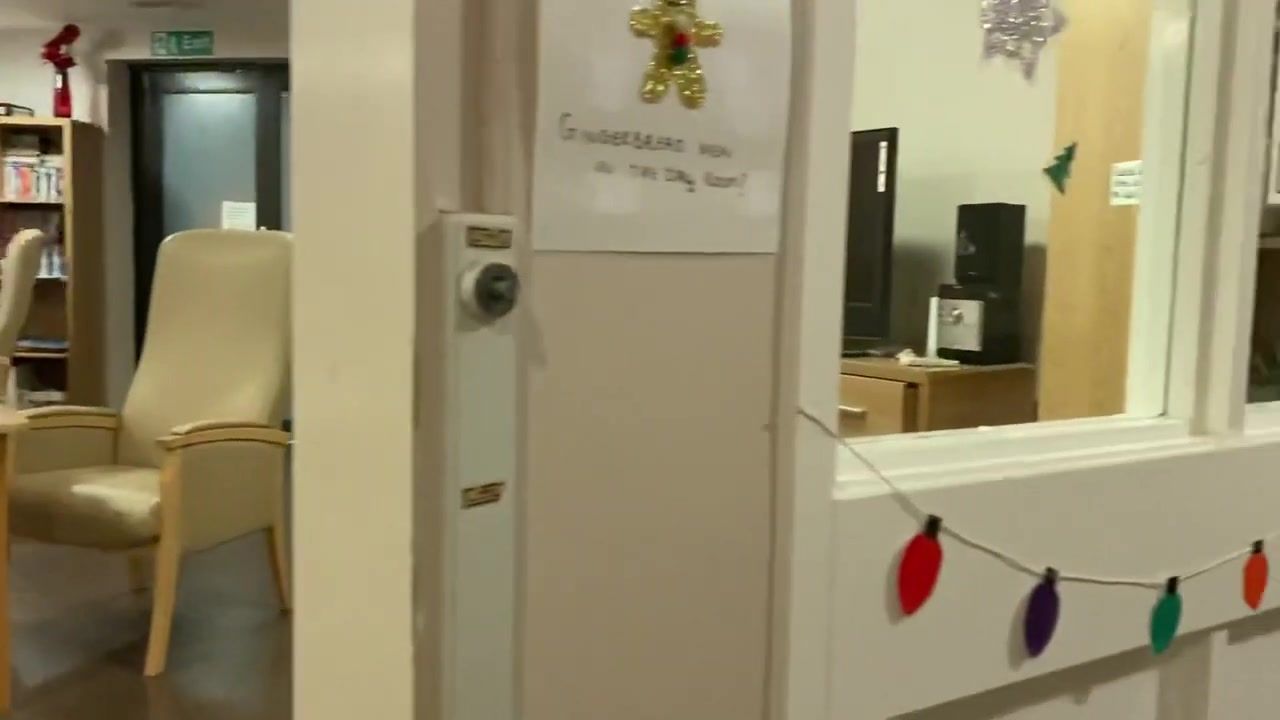cabinet: (1, 115, 104, 406)
chair: (1, 230, 290, 696), (1, 231, 44, 402)
drawer: (824, 354, 1039, 438)
handle: (836, 403, 868, 424)
